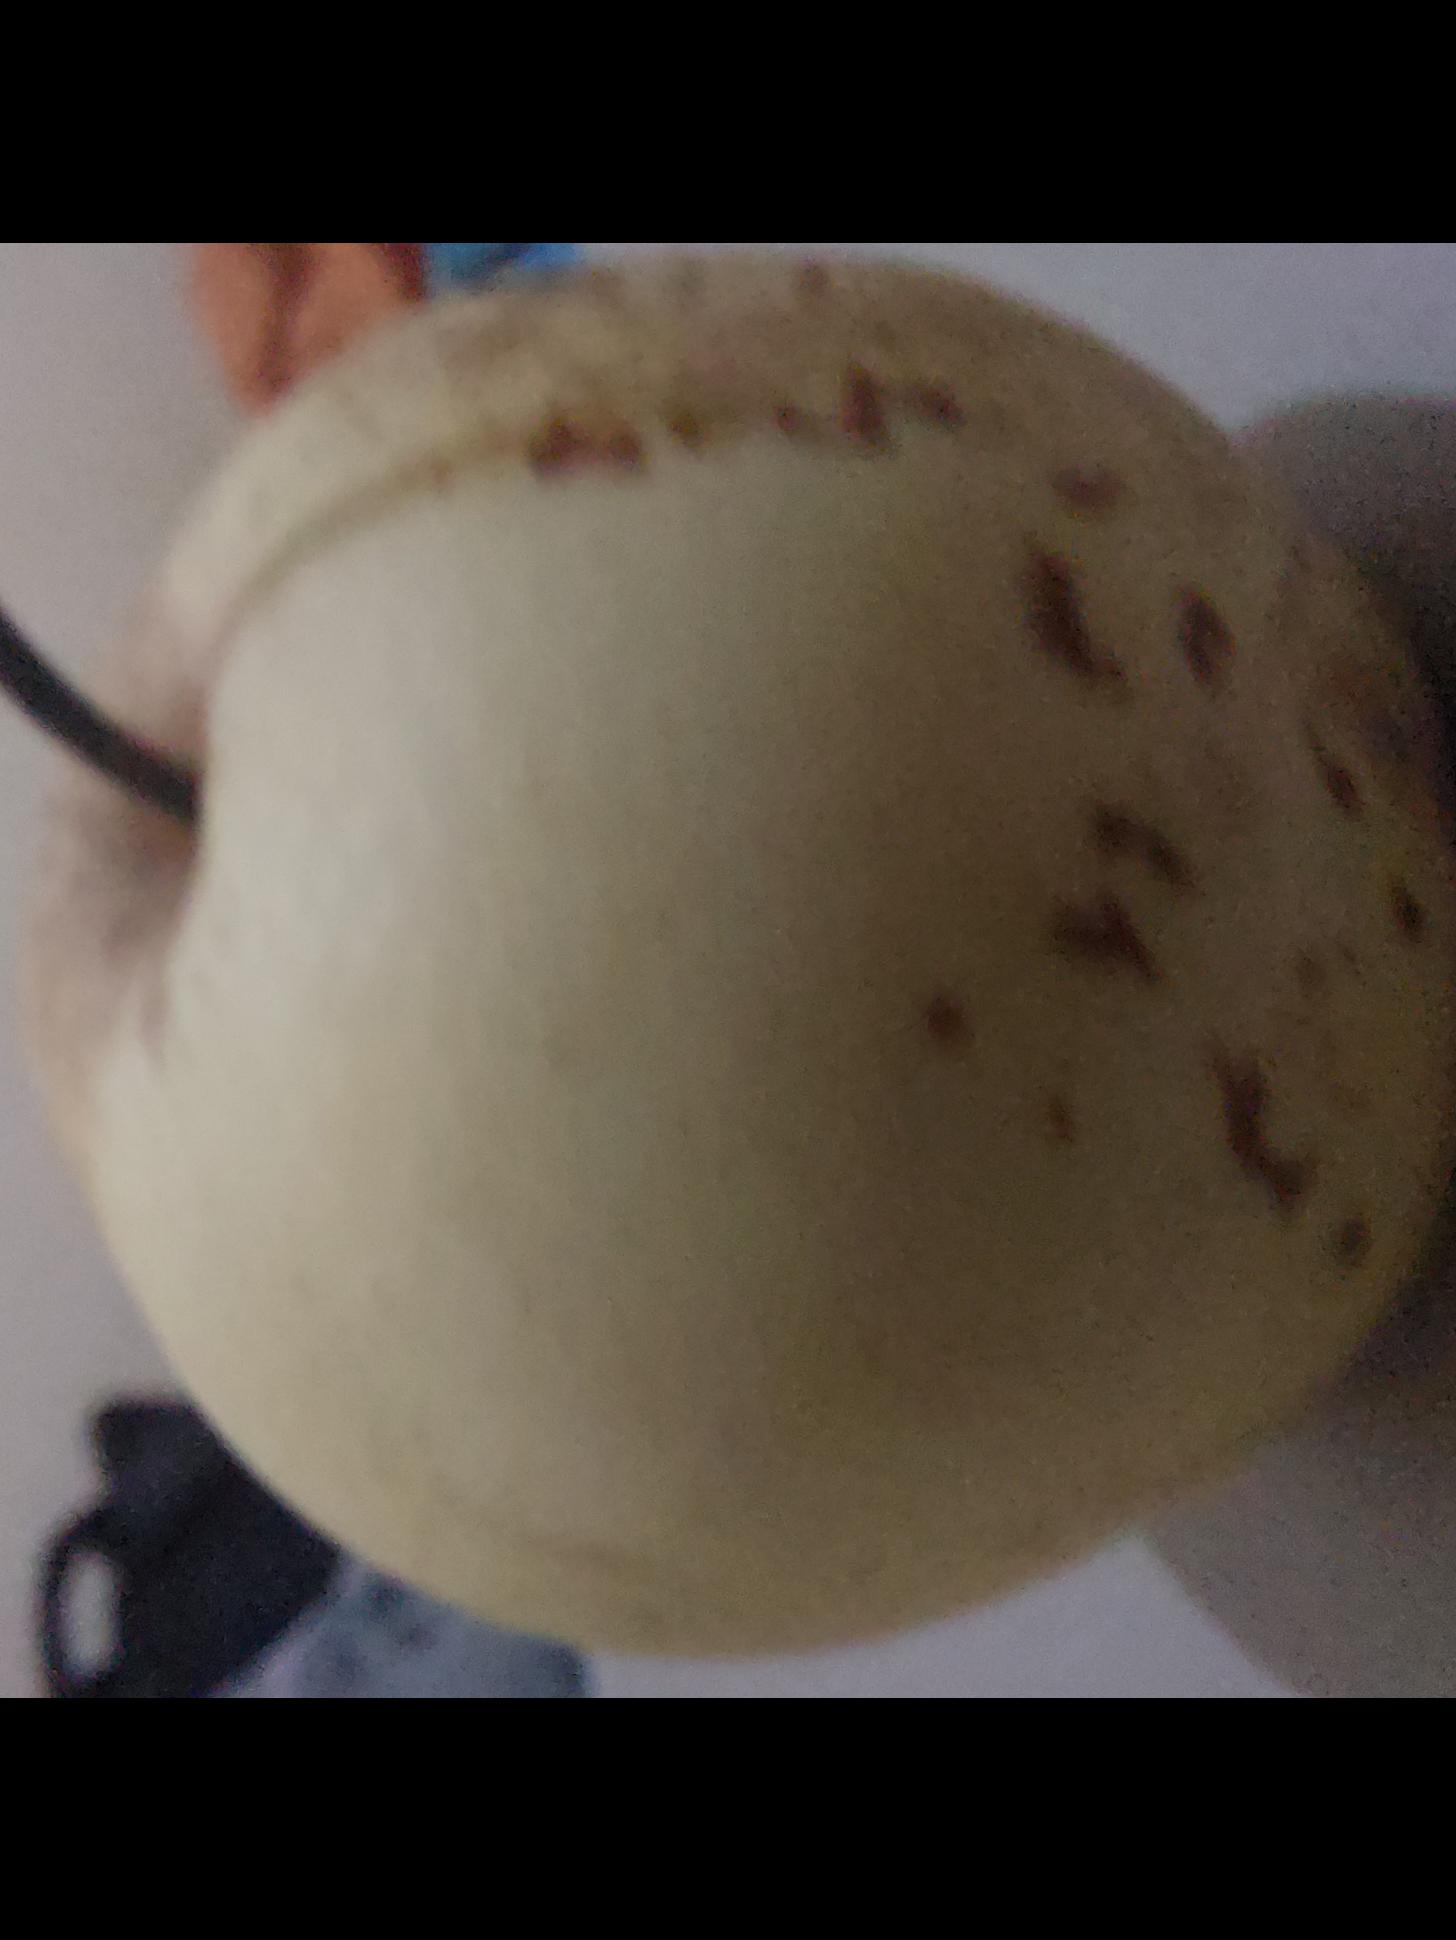Bad Pear: (2, 242, 1456, 1698)
